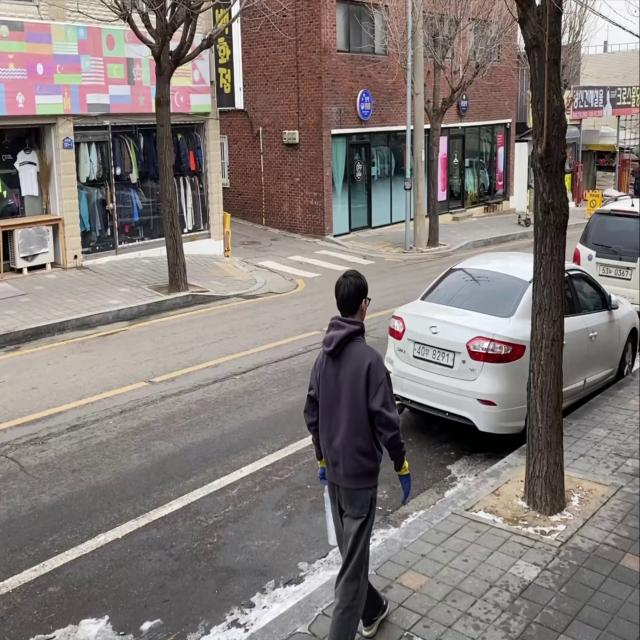gloved_hand: (390, 466, 416, 508), (314, 460, 332, 490)
